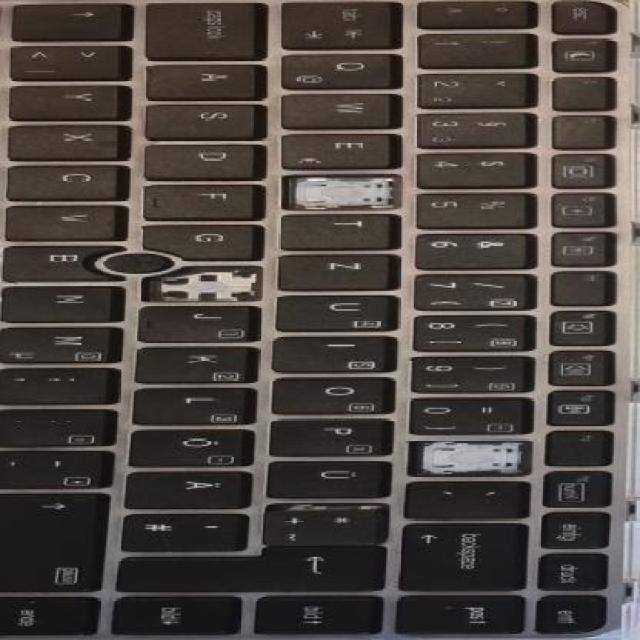Keyboard problems: (409, 440, 531, 474), (143, 268, 260, 300), (291, 177, 397, 208)
